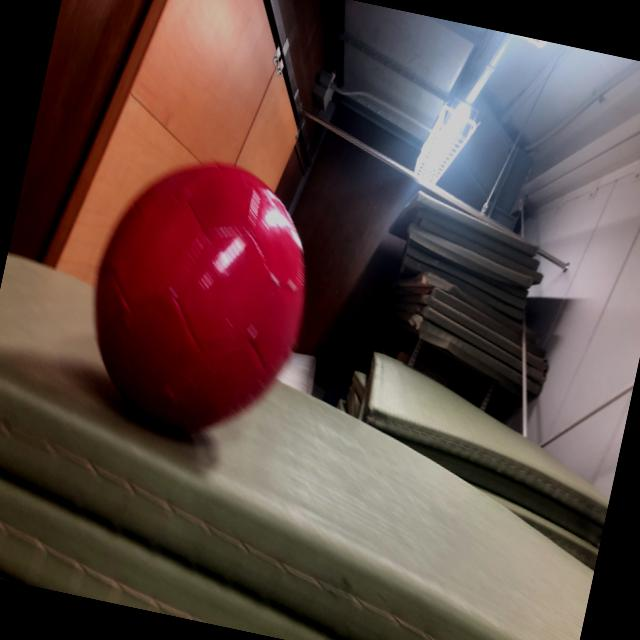red_ball: (68, 146, 330, 452)
